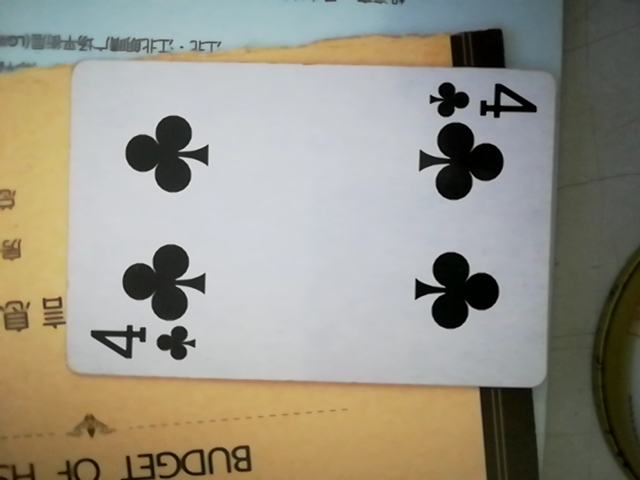mh 4: (53, 60, 565, 389)
